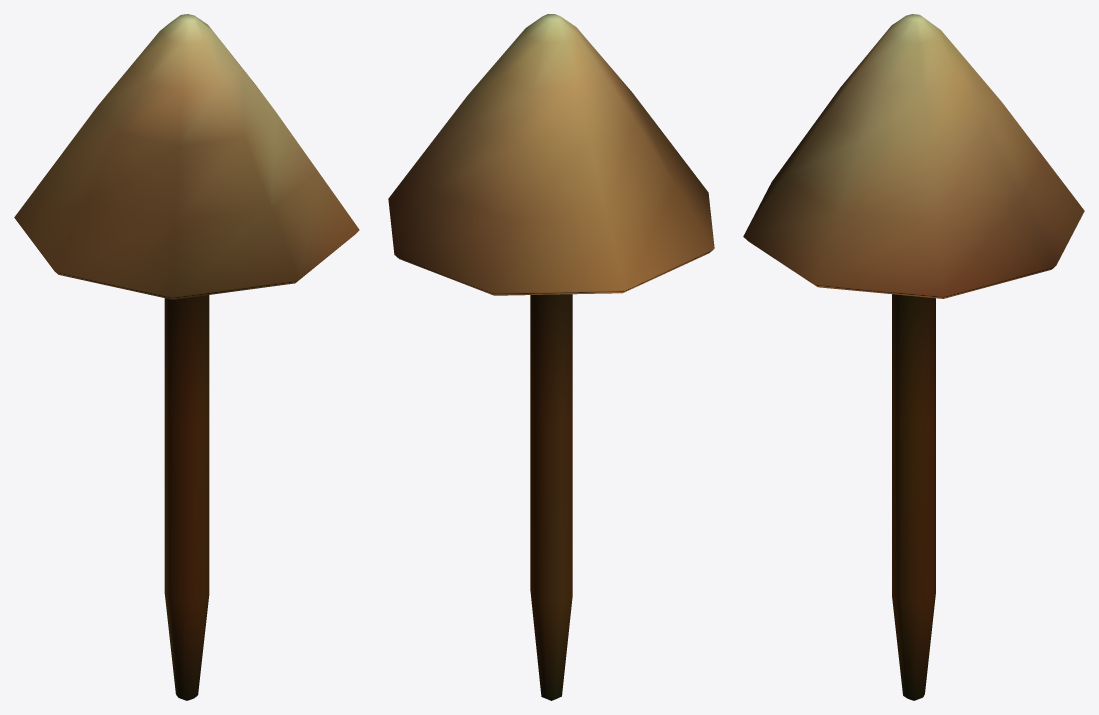
The model's file is plants-mushrooms-brown-mushroom_v1.glb.
The picture shows the model from 3 angles, left to right: view 1: azimuth 30°, elevation 25°; view 2: azimuth 150°, elevation 25°; view 3: azimuth 270°, elevation 25°; orthographic projection.
Parts seen in each view (by area): view 1: Brown Mushroom_v1; view 2: Brown Mushroom_v1; view 3: Brown Mushroom_v1.
Boxes of the visible parts, box(x1,y1,x2,y2) form: Brown Mushroom_v1: box(14, 14, 359, 700); Brown Mushroom_v1: box(388, 14, 714, 700); Brown Mushroom_v1: box(743, 14, 1084, 700).
Size of the model in its own units: 0.0544 by 0.12 by 0.0544.
